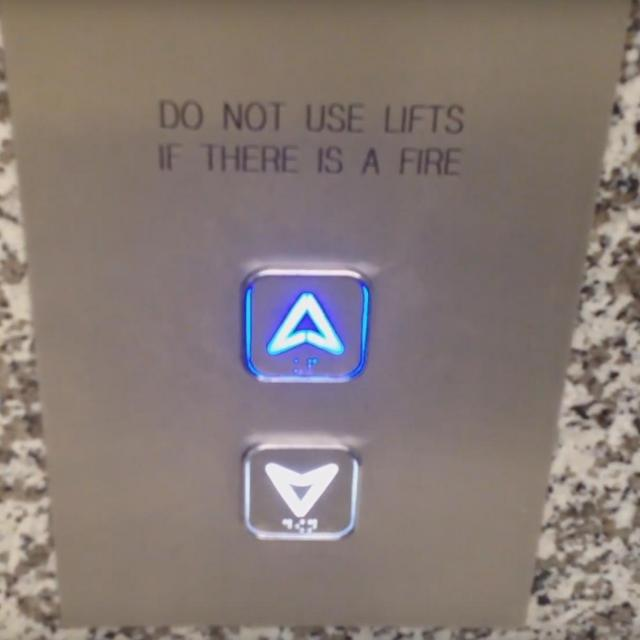down: (237, 436, 362, 547)
up: (236, 257, 374, 390)
